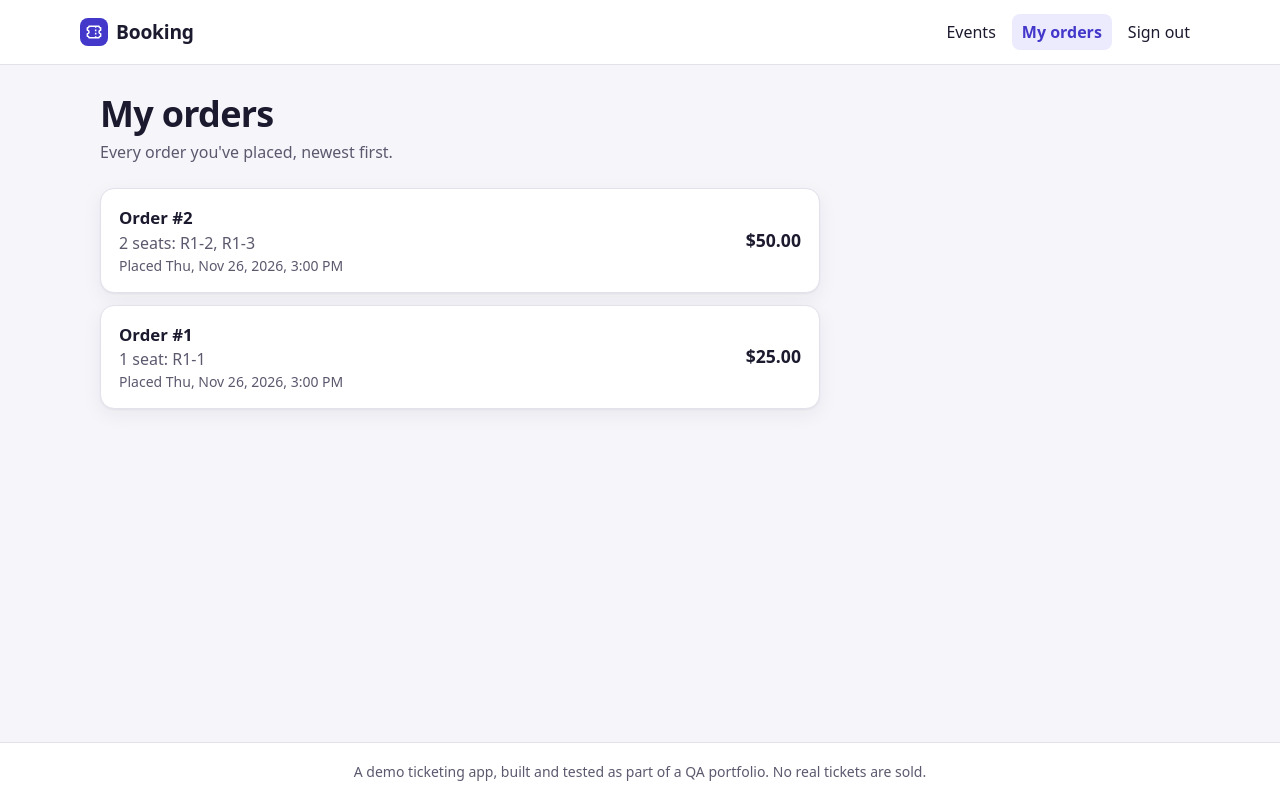
Test: OrdersPage › lists your orders, newest first, and opens one
This screenshot has width=1280, height=800.
Expected: the number of list items with test id "order-row" is 2, [100,188,820,293]; [100,305,820,409]
Expected: the list item with test id "order-row" shows "Order #2", [100,188,820,293]
What coordinates should you click on to do the following:
click the link "Order #1"
I would click on:
 (151, 334)
Its box is [119,323,193,346].
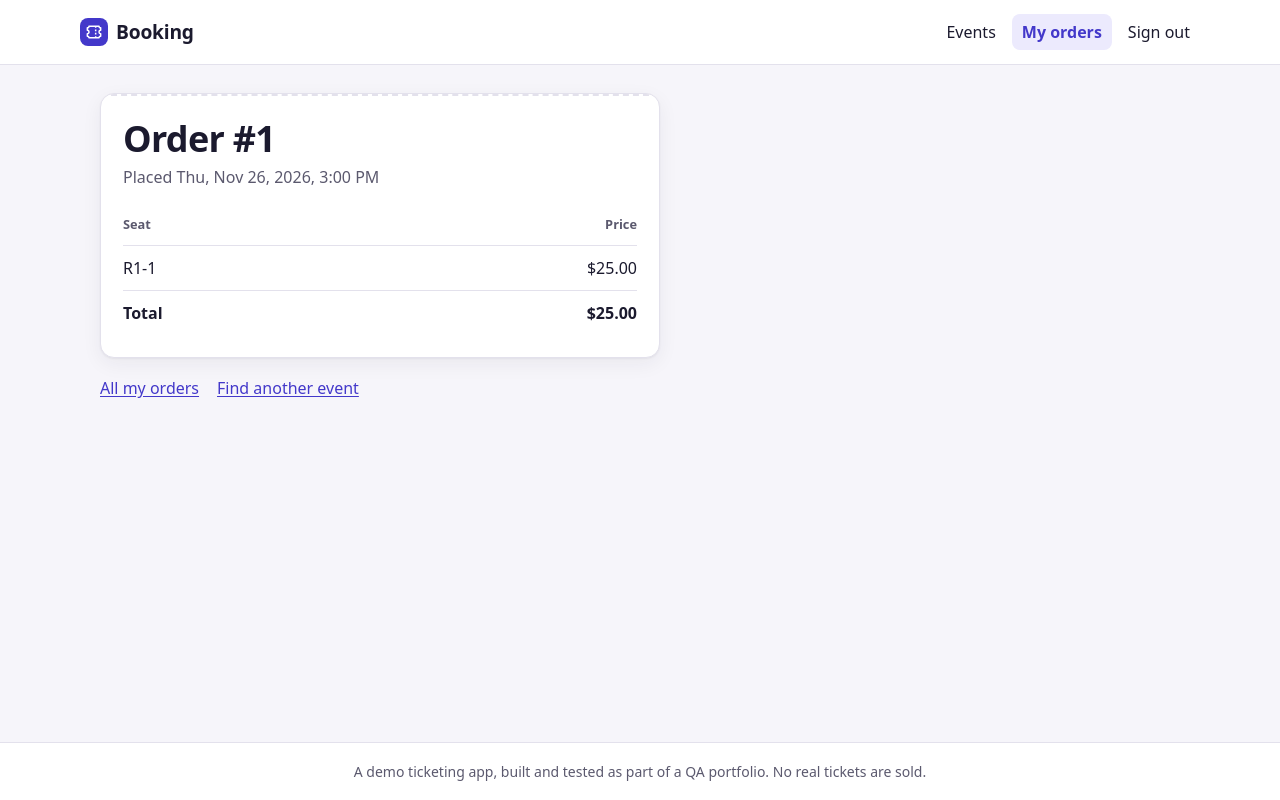
Expected: the heading "Order #1" is shown, [123,114,275,163]
